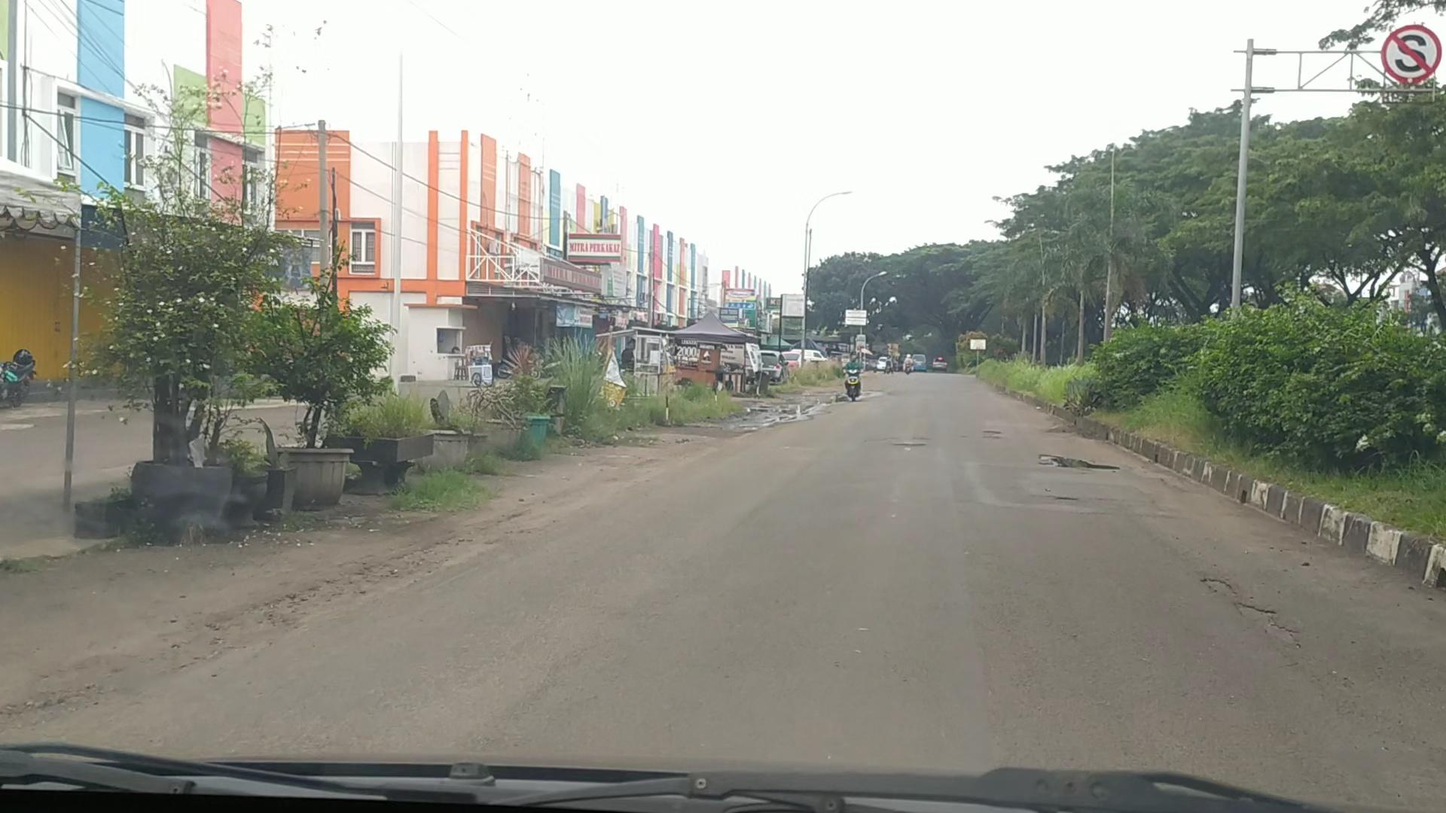pothole: (1039, 452, 1118, 470)
